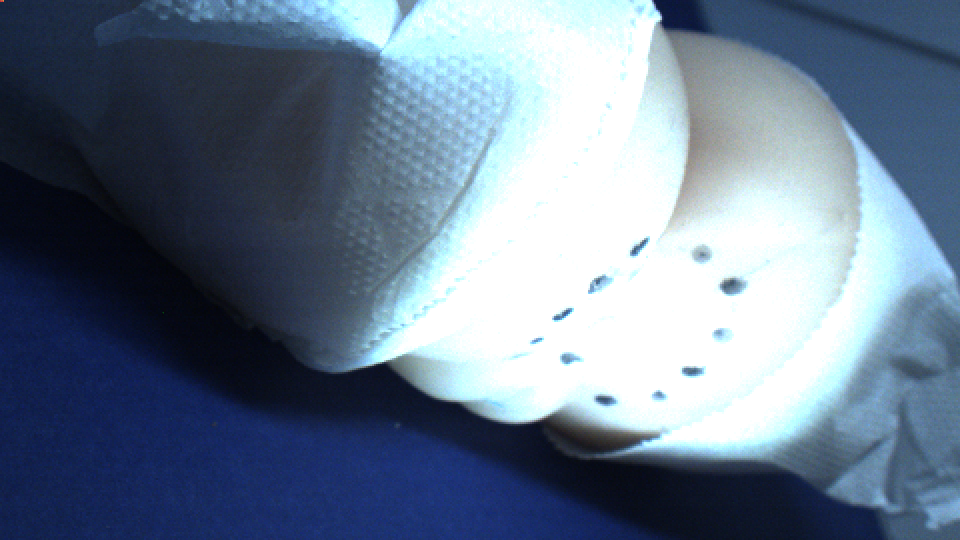asarp_marker: (721, 269, 755, 300), (580, 275, 617, 298), (629, 229, 653, 263), (588, 388, 619, 413), (688, 234, 711, 267), (710, 319, 736, 348), (677, 357, 712, 378), (647, 381, 670, 407), (557, 350, 585, 371), (551, 306, 577, 326)
